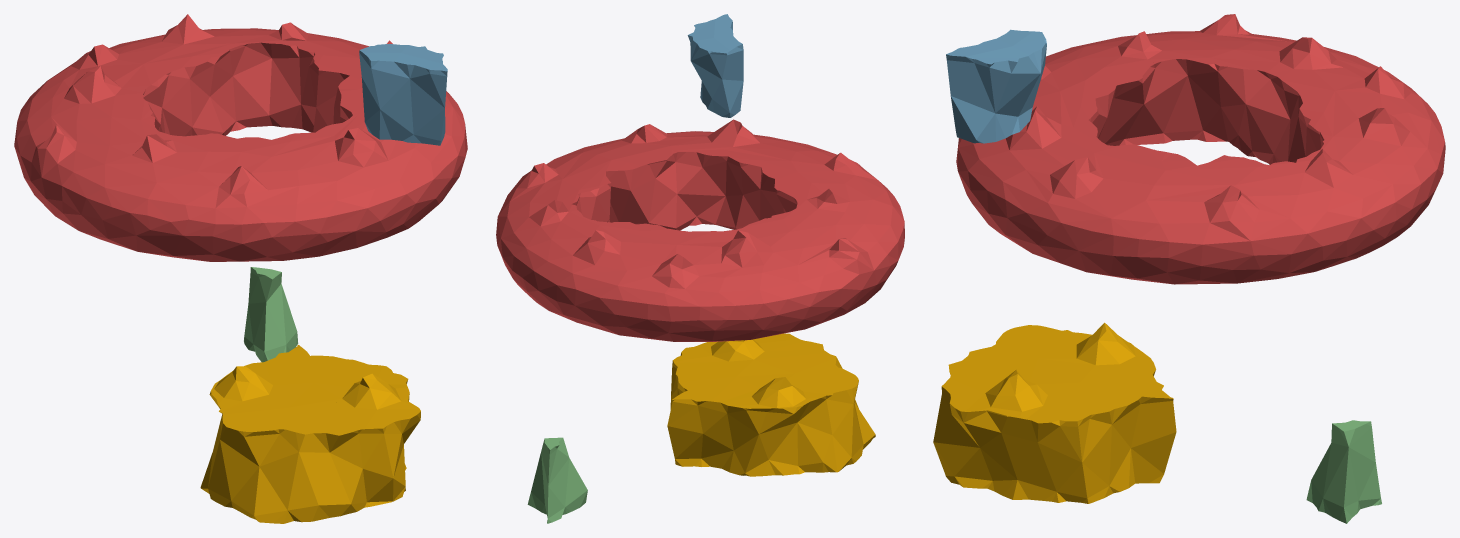
The model's file is fractured_23_4pcs_transformed.glb.
The picture shows the model from 3 angles, left to right: view 1: azimuth 30°, elevation 25°; view 2: azimuth 150°, elevation 25°; view 3: azimuth 270°, elevation 25°; orthographic projection. The views are drawn at different scales.
Parts seen in each view (by area): view 1: piece_1.obj, piece_0.obj, piece_2.obj, piece_3.obj; view 2: piece_1.obj, piece_0.obj, piece_2.obj, piece_3.obj; view 3: piece_1.obj, piece_0.obj, piece_2.obj, piece_3.obj.
Boxes of the visible parts, left/top/right/bottom form: piece_1.obj: left=14, top=14, right=467, bottom=261; piece_0.obj: left=200, top=345, right=420, bottom=523; piece_2.obj: left=359, top=44, right=447, bottom=145; piece_3.obj: left=244, top=267, right=298, bottom=362; piece_1.obj: left=496, top=119, right=904, bottom=341; piece_0.obj: left=667, top=333, right=875, bottom=476; piece_2.obj: left=687, top=14, right=743, bottom=117; piece_3.obj: left=527, top=437, right=587, bottom=523; piece_1.obj: left=956, top=14, right=1445, bottom=284; piece_0.obj: left=933, top=322, right=1176, bottom=503; piece_2.obj: left=946, top=29, right=1046, bottom=143; piece_3.obj: left=1306, top=420, right=1381, bottom=523.
Bounding box in the file's own units: 0.9983 × 1.02 × 1.05.
